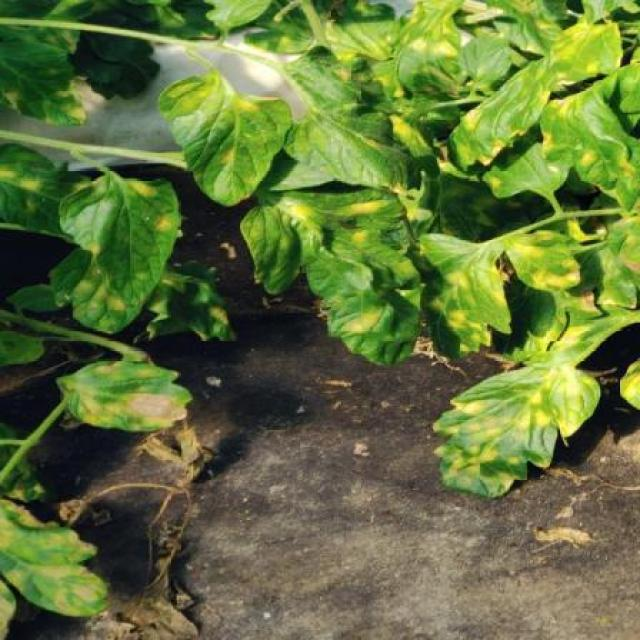Leaf Mold: (240, 186, 423, 367), (444, 18, 622, 175), (431, 364, 603, 499), (282, 44, 422, 199), (58, 173, 181, 336), (156, 76, 293, 207), (403, 233, 514, 358), (0, 497, 110, 617), (59, 360, 194, 433), (0, 142, 90, 235), (1, 36, 86, 126), (504, 228, 584, 293)
